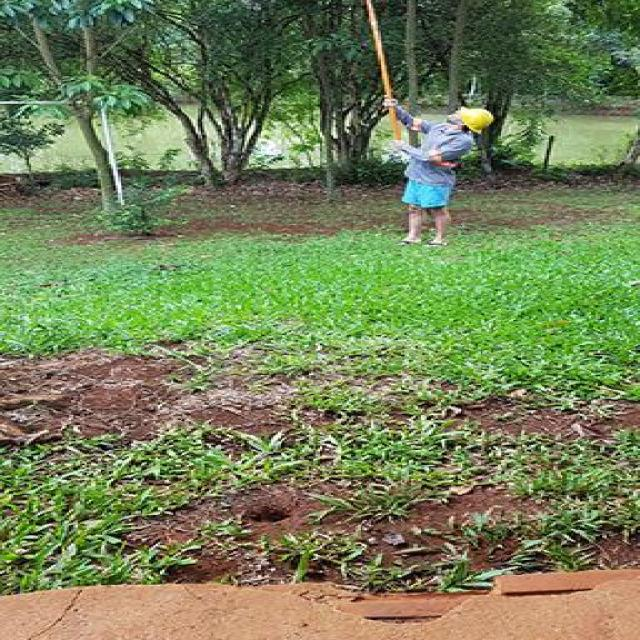helmet: (442, 104, 493, 136)
